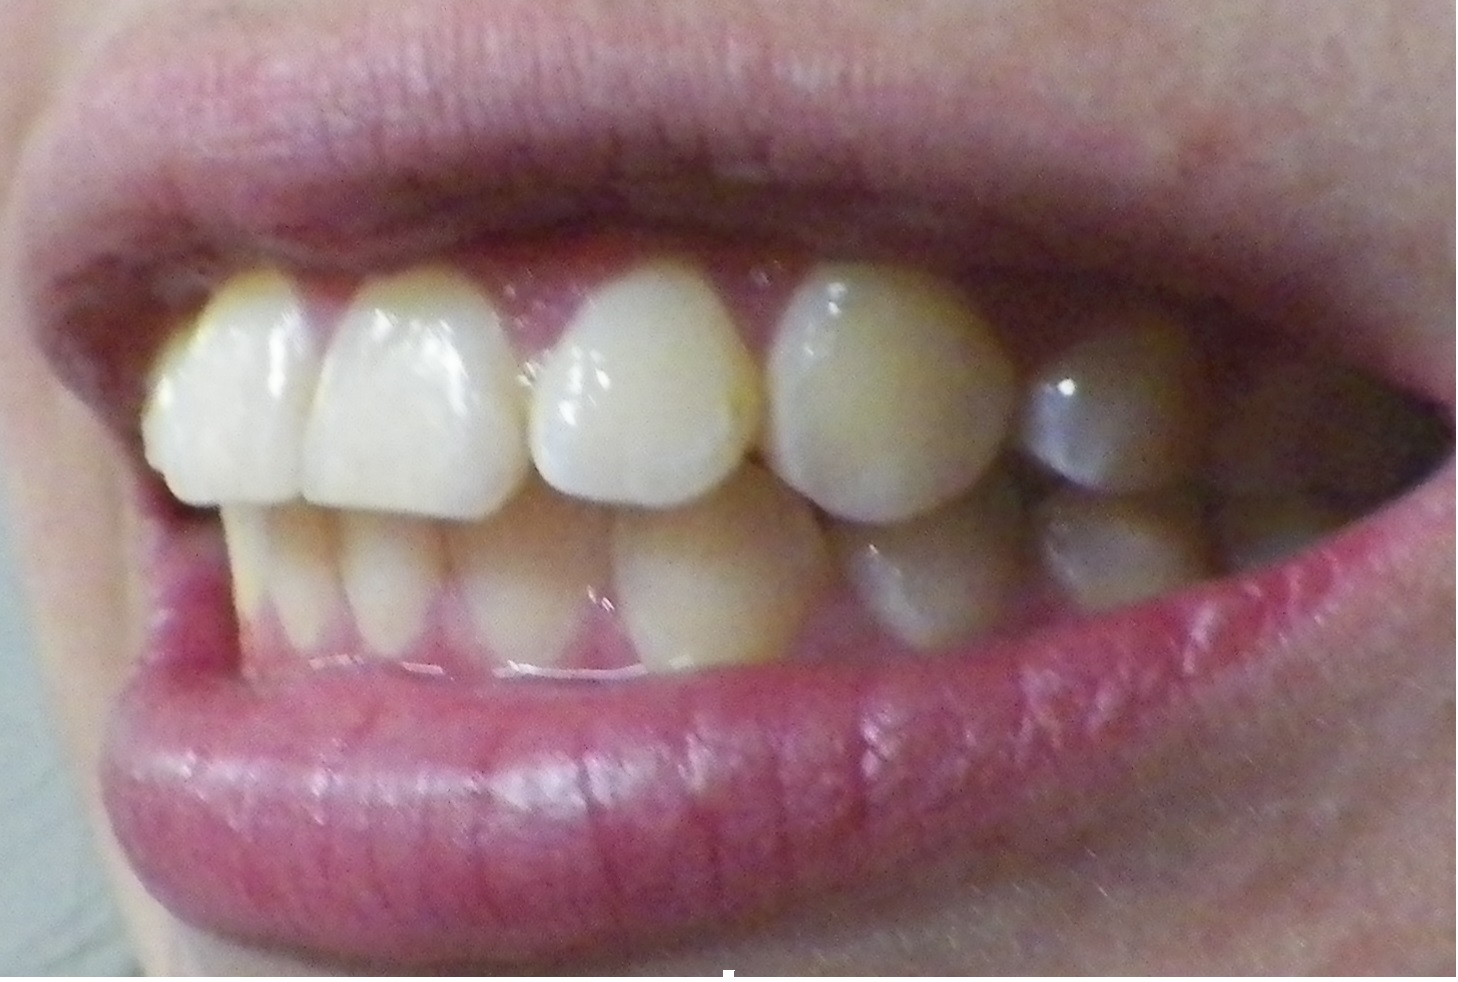boca: (149, 264, 1351, 674)
